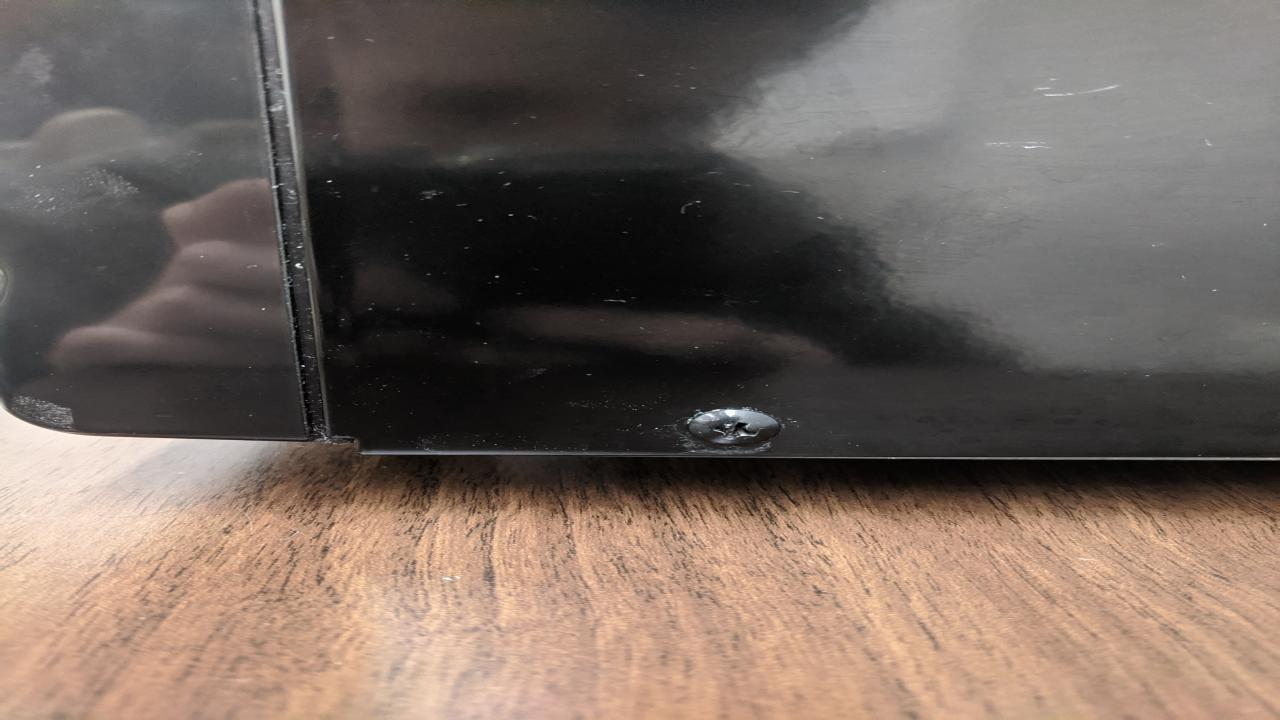CRS: (688, 407, 780, 452)
